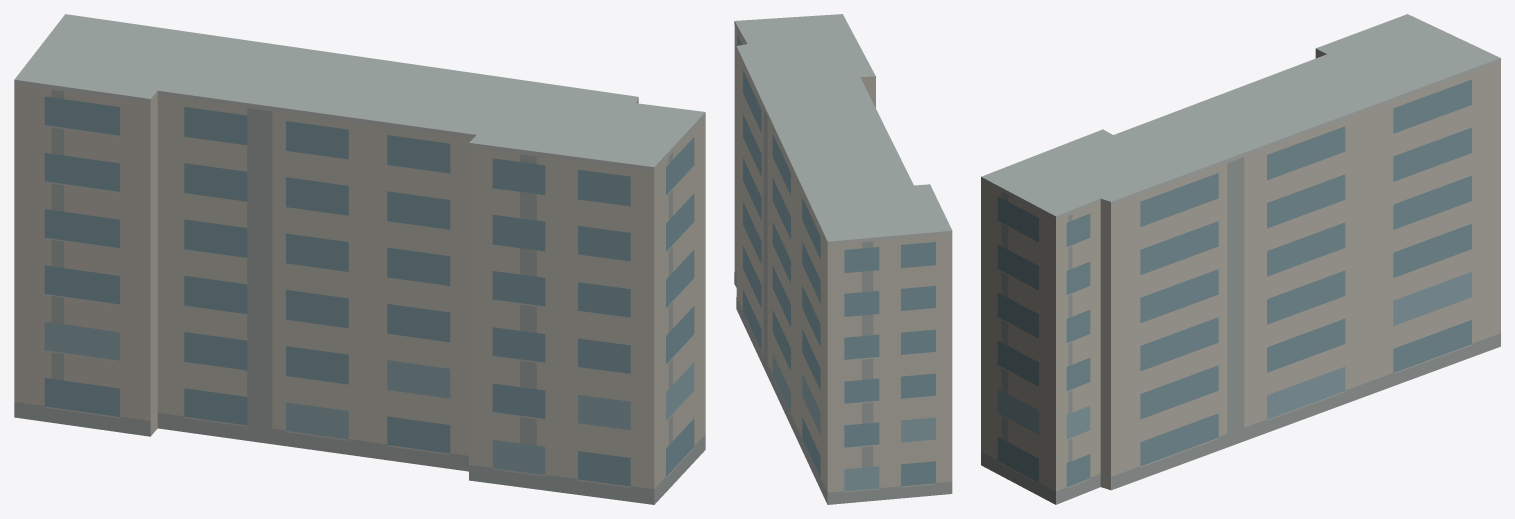
The model's file is survey-upis-32807294.glb.
3 views of the same model, side by side, from view 1: azimuth 30°, elevation 25°; view 2: azimuth 150°, elevation 25°; view 3: azimuth 270°, elevation 25° (orthographic). The views are drawn at different scales.
Visible parts, largest first — view 1: survey-upis-32807294.tmp; view 2: survey-upis-32807294.tmp; view 3: survey-upis-32807294.tmp.
Boxes of the visible parts, x1,y1,x2,y2 form: survey-upis-32807294.tmp: (14,14,705,504); survey-upis-32807294.tmp: (734,14,952,504); survey-upis-32807294.tmp: (981,14,1500,504).
Size of the model in its own units: 25.59 by 17 by 27.77.
